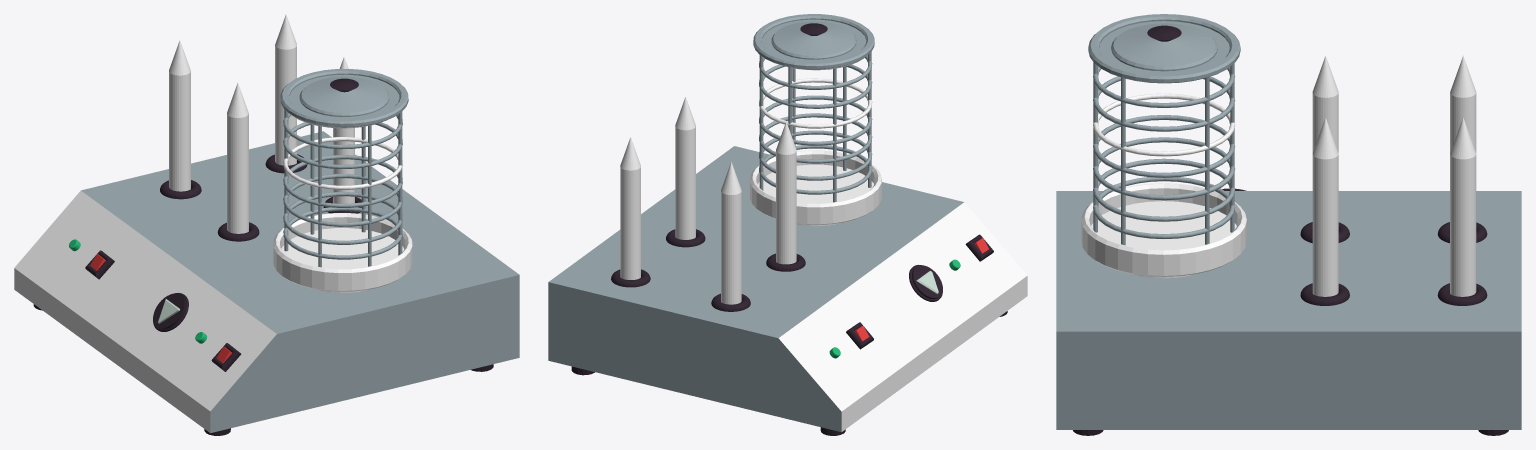
Rendered from MaszynaDoHoTDogow.v2.fbx.
3 views of the same model, side by side, from view 1: azimuth 30°, elevation 25°; view 2: azimuth 150°, elevation 25°; view 3: azimuth 270°, elevation 25° (orthographic). The views are drawn at different scales.
Parts seen in each view (by area): view 1: MaszynaDoHoTDogow.v2; view 2: MaszynaDoHoTDogow.v2; view 3: MaszynaDoHoTDogow.v2.
Boxes of the visible parts, box(x1,y1,x2,y2) form: MaszynaDoHoTDogow.v2: box(14, 14, 519, 435); MaszynaDoHoTDogow.v2: box(548, 14, 1027, 435); MaszynaDoHoTDogow.v2: box(1056, 14, 1521, 435).
Size of the model in its own units: 2.2 by 1.94 by 2.42.
